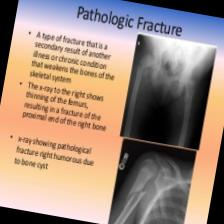pathological-fracture: (104, 31, 214, 224)
